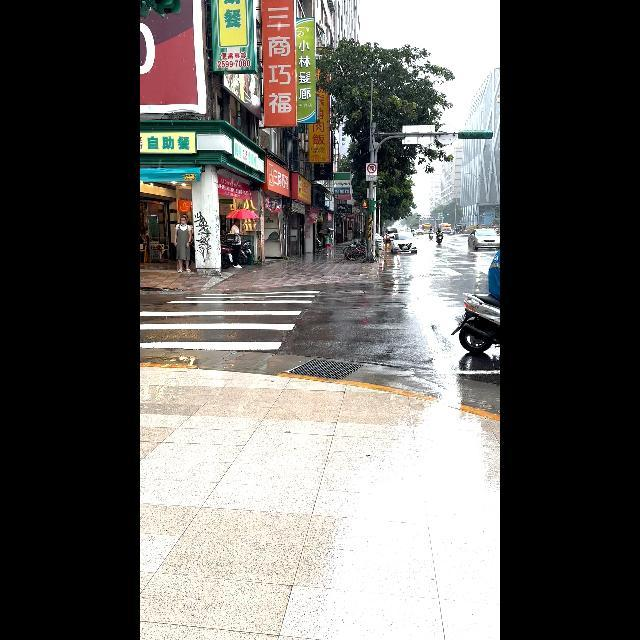sidewalk: (140, 291, 320, 350)
